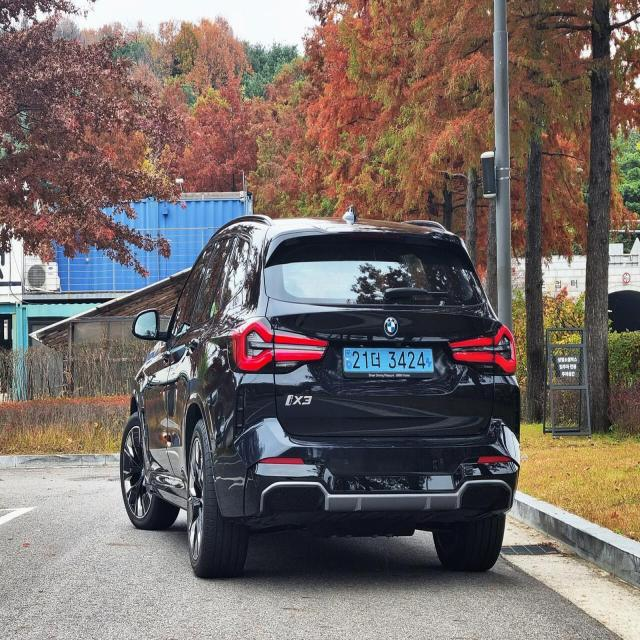EV_plate: (342, 340, 438, 380)
car: (118, 206, 526, 590)
